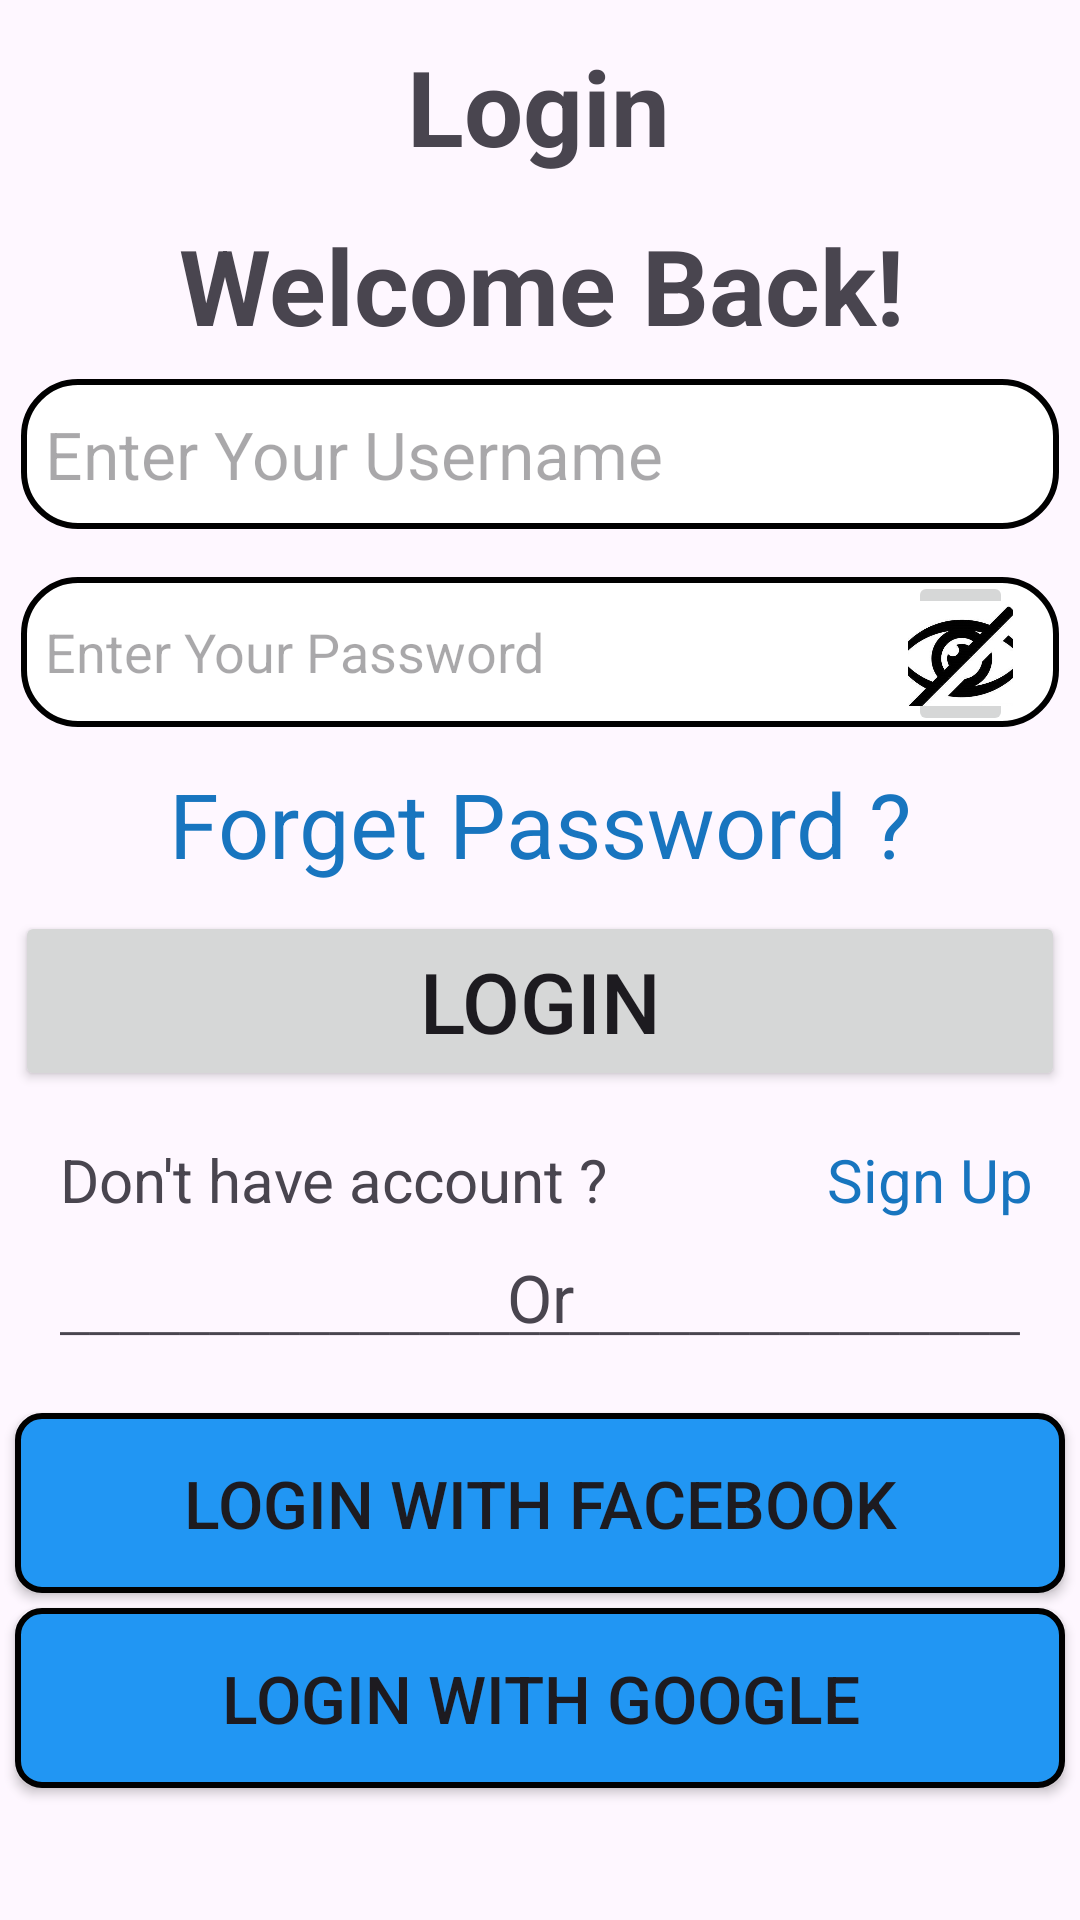

Named icons in this screenshot (1080*1920) and their centers, point (x, y):
invisible: point (960, 653)
